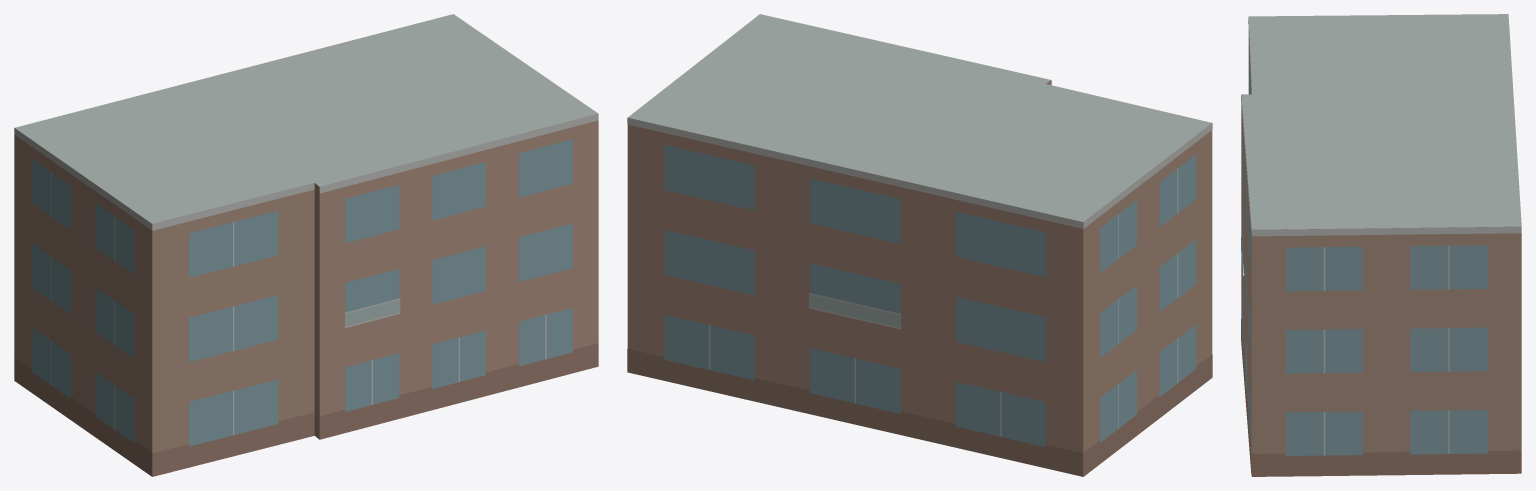
The model's file is survey-upis-32515355.glb.
The picture shows the model from 3 angles, left to right: view 1: azimuth 30°, elevation 25°; view 2: azimuth 150°, elevation 25°; view 3: azimuth 270°, elevation 25°; orthographic projection. The views are drawn at different scales.
Parts seen in each view (by area): view 1: survey-upis-32515355.tmp; view 2: survey-upis-32515355.tmp; view 3: survey-upis-32515355.tmp.
Part boxes in pixels (left/top/right/bottom): survey-upis-32515355.tmp: left=14, top=14, right=598, bottom=476; survey-upis-32515355.tmp: left=627, top=14, right=1212, bottom=476; survey-upis-32515355.tmp: left=1241, top=14, right=1521, bottom=476.
Size of the model in its own units: 17.06 by 9.1 by 9.38.
